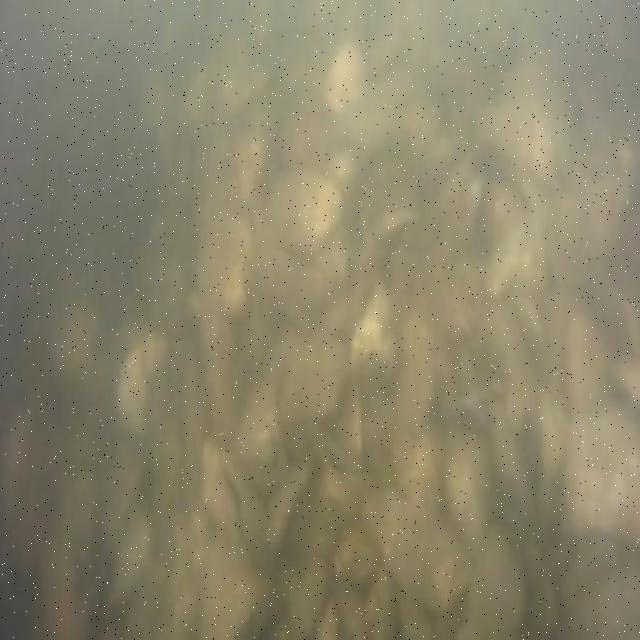Oyster-Closed: (363, 491, 476, 617), (552, 398, 640, 546), (199, 442, 276, 589), (488, 62, 556, 208), (200, 535, 278, 640), (237, 370, 299, 492), (464, 528, 522, 640), (268, 171, 339, 261), (287, 336, 351, 428), (365, 153, 421, 245), (557, 308, 603, 412), (397, 316, 435, 434), (452, 444, 495, 546), (111, 514, 152, 603), (356, 284, 390, 377), (121, 347, 150, 439)
Oyster-Open: (321, 432, 358, 489)
